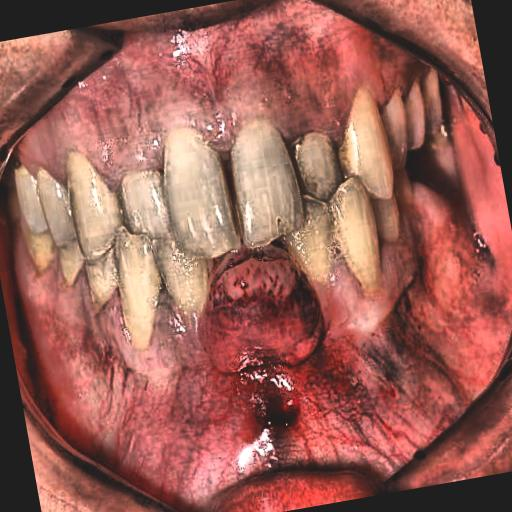Gingivitis: (176, 224, 371, 450)
